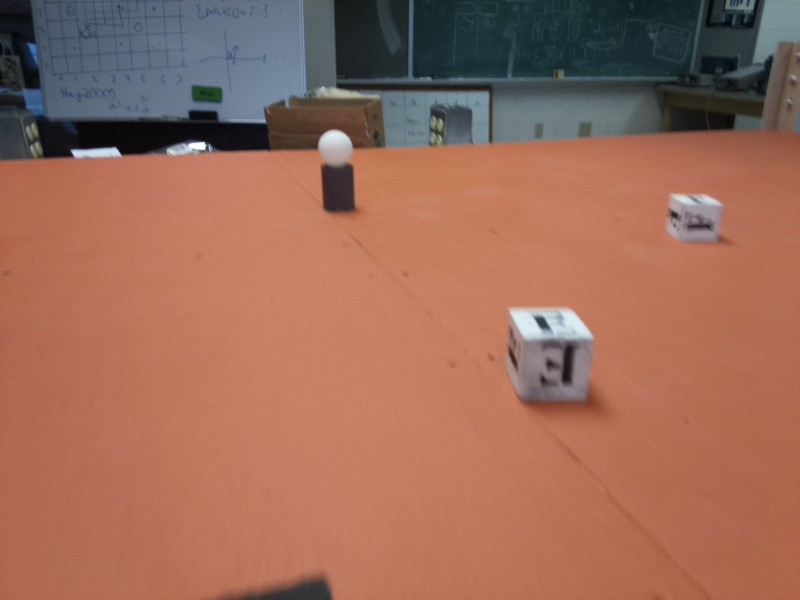blockE: (506, 306, 596, 398)
blockF: (664, 193, 726, 246)
corner: (771, 40, 800, 135)
obstacle: (316, 128, 359, 211)
